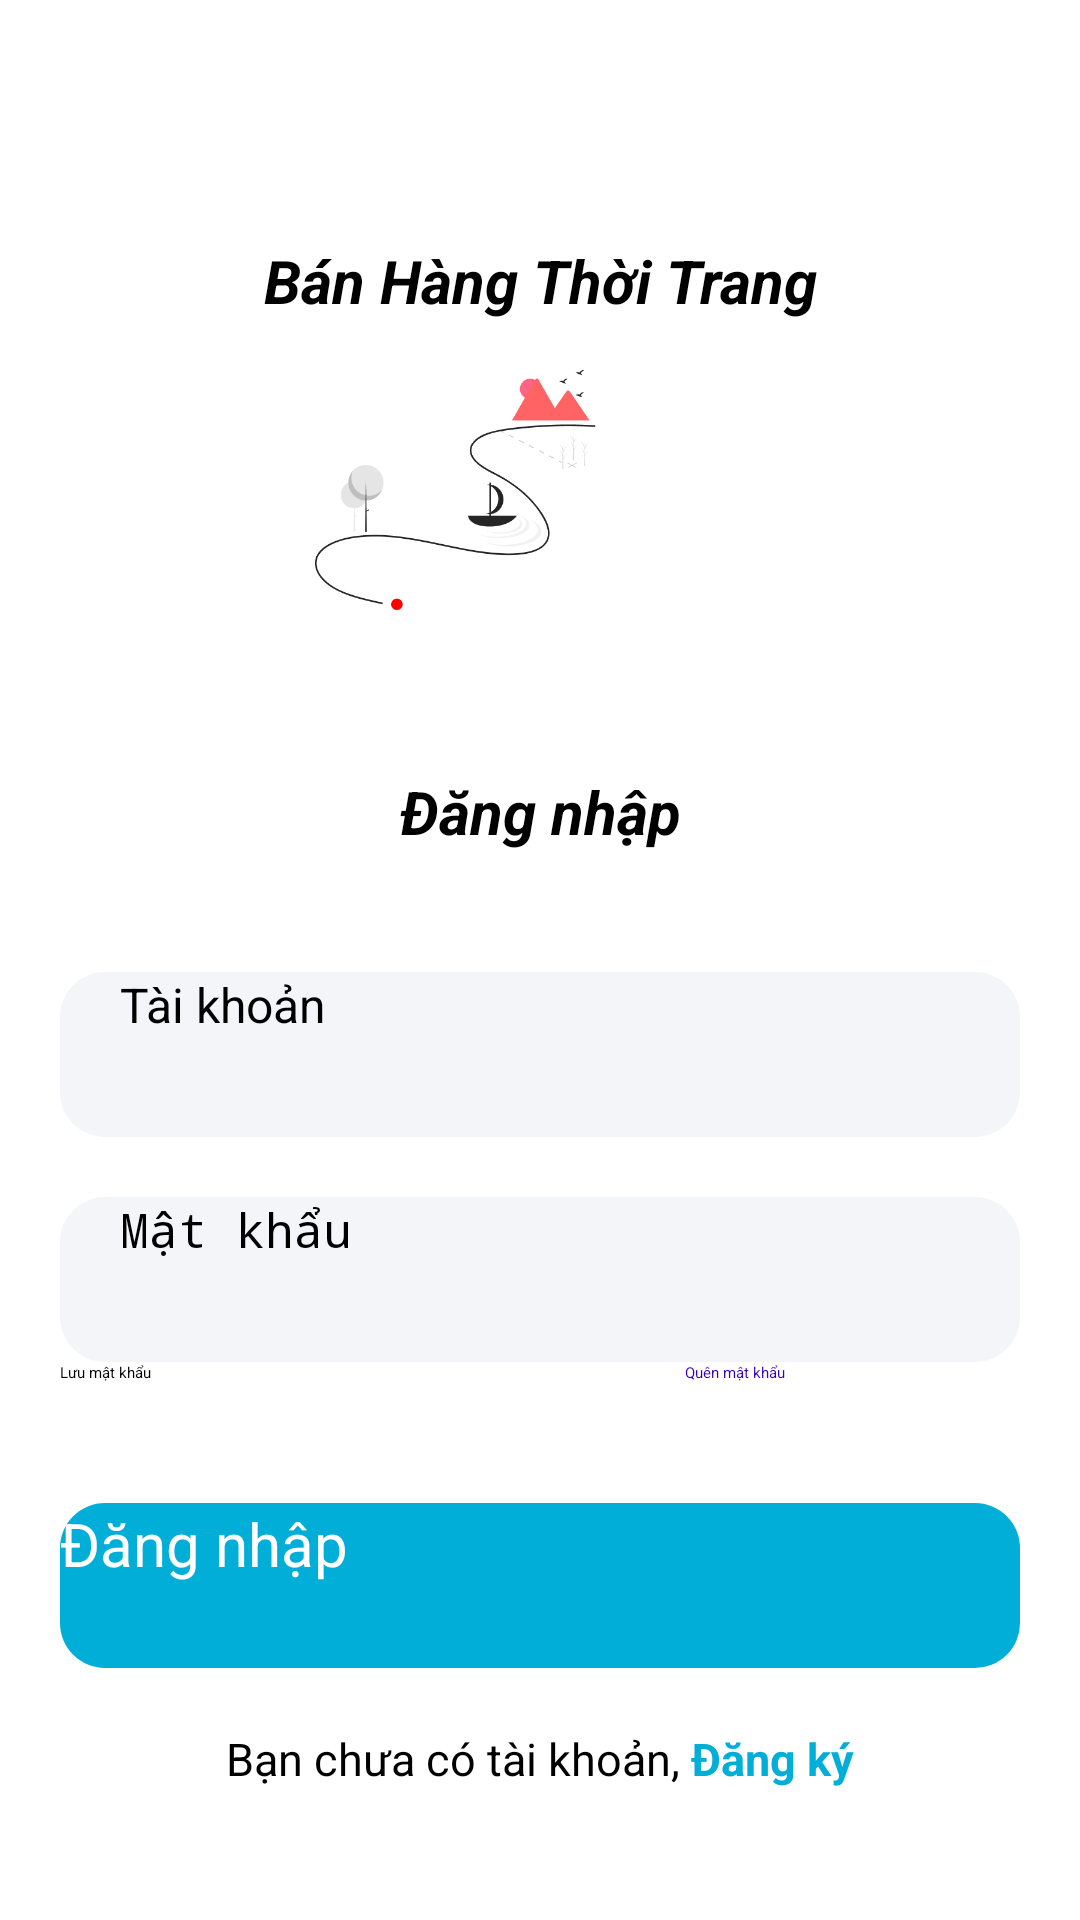

Screen size 1080 x 1920. Icon name, then its center in pixels as (x,y):
nendangnhap: (455,490)
